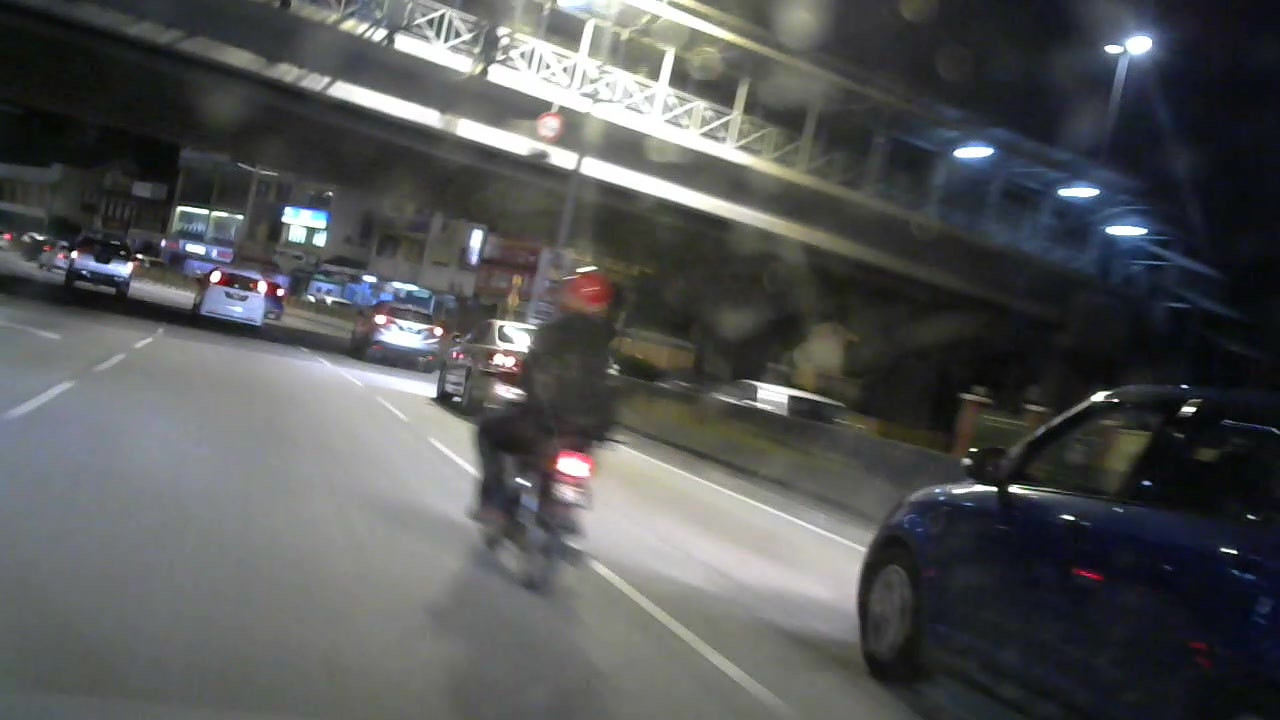Car: (842, 352, 1268, 708), (429, 312, 534, 413), (352, 295, 437, 371), (61, 232, 143, 302), (193, 266, 274, 328)
